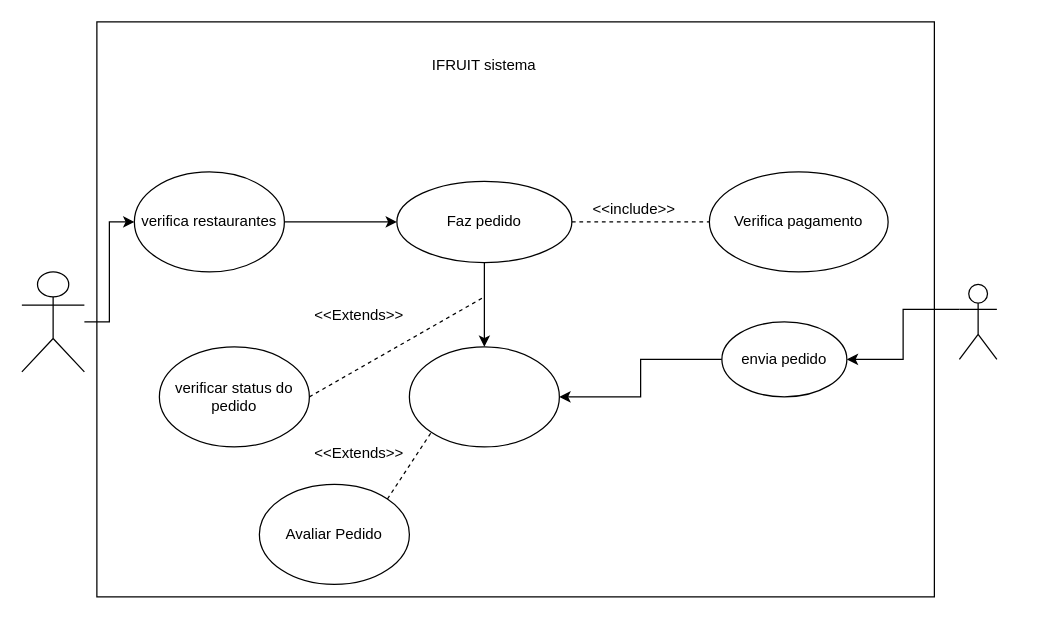
This 1040x619 diagram has some shape labels left out. Each missing label, with the centre of its shape:
Cliente: point (52, 321)
Pedido entregue: point (483, 396)
Restaurante: point (977, 321)
